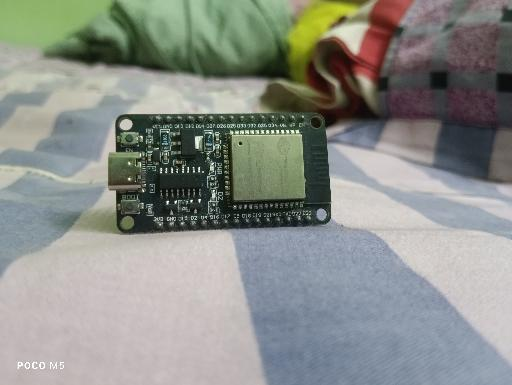Esp32: (108, 113, 332, 234)
